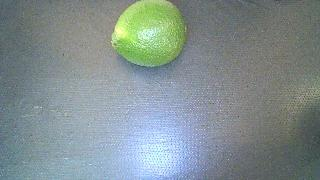EXPORTACION: (111, 0, 186, 66)
